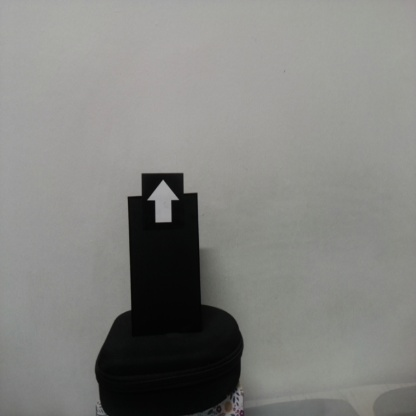id_1: (142, 174, 184, 235)
